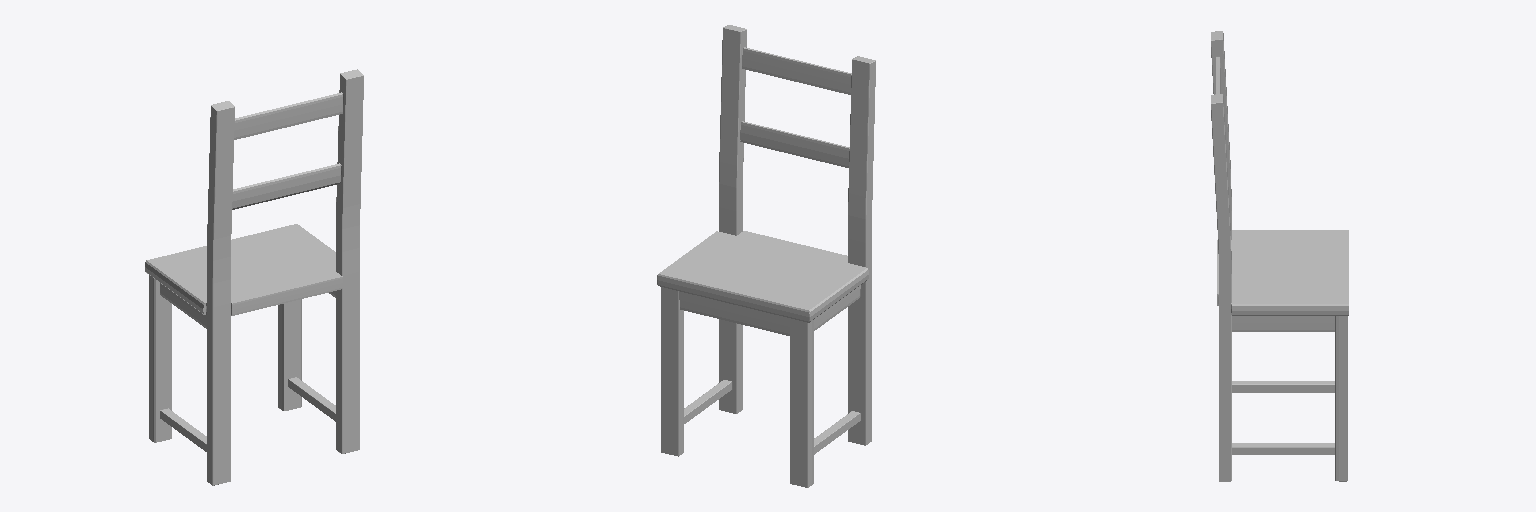
The model's file is sediaDx.obj.
The picture shows the model from 3 angles: view 1: azimuth 30°, elevation 25°; view 2: azimuth 150°, elevation 25°; view 3: azimuth 270°, elevation 25°; orthographic projection.
Parts seen in each view (by area): view 1: sedia_03_Ivar_Pinea_Plane.002; view 2: sedia_03_Ivar_Pinea_Plane.002; view 3: sedia_03_Ivar_Pinea_Plane.002.
Boxes of the visible parts, x1,y1,x2,y2 form: sedia_03_Ivar_Pinea_Plane.002: [145, 69, 363, 485]; sedia_03_Ivar_Pinea_Plane.002: [657, 25, 875, 487]; sedia_03_Ivar_Pinea_Plane.002: [1211, 31, 1348, 481].
Bounding box in the file's own units: 2.01 × 4.74 × 1.57.